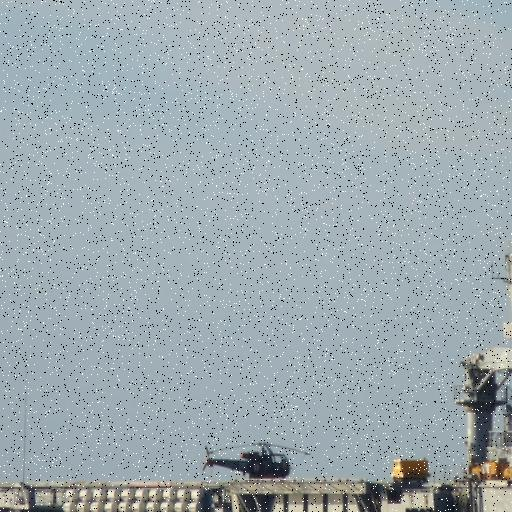Portanaves: (1, 35, 512, 512)
